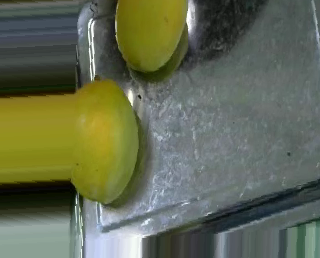Mango: (75, 80, 138, 206), (115, 0, 190, 71)
